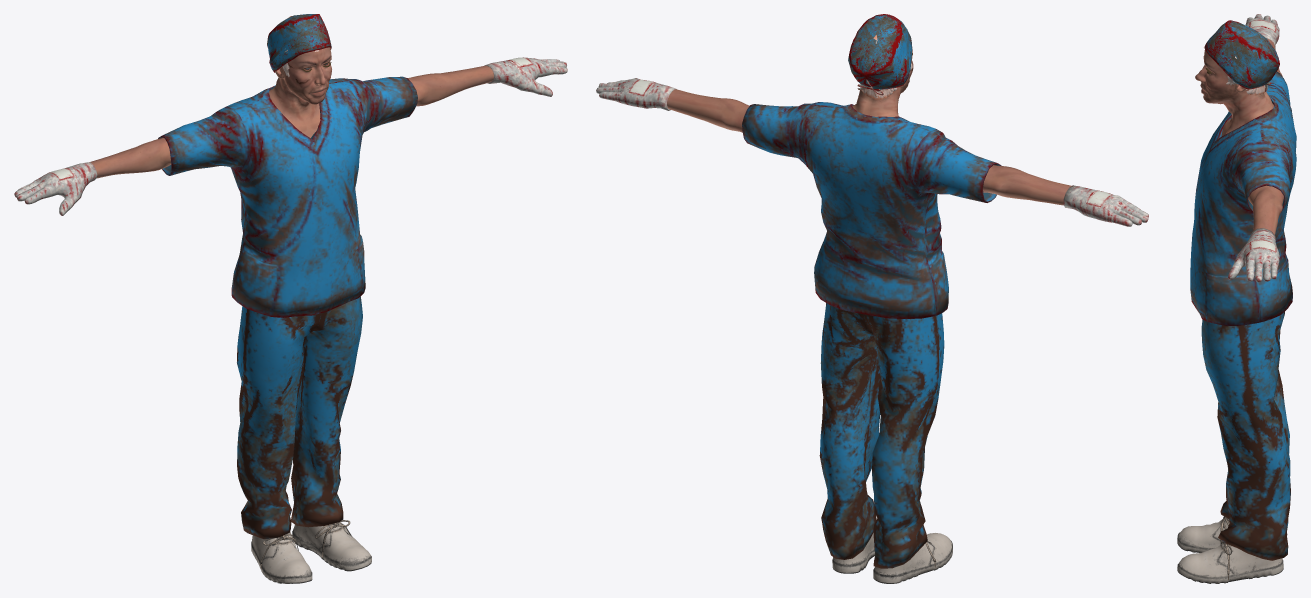
The model's file is real old man object.obj.
The picture shows the model from 3 angles, left to right: view 1: azimuth 30°, elevation 25°; view 2: azimuth 150°, elevation 25°; view 3: azimuth 270°, elevation 25°; orthographic projection.
Parts seen in each view (by area): view 1: Tops, Bottoms, Body, Shoes, Gloves, Hats; view 2: Tops, Bottoms, Body, Hats, Gloves, Shoes; view 3: Tops, Bottoms, Shoes, Body, Hats, Gloves, Hair.
Part boxes in pixels (bbox=[...]): Tops: bbox=[158, 76, 417, 317]; Bottoms: bbox=[237, 296, 362, 539]; Body: bbox=[89, 47, 494, 178]; Shoes: bbox=[251, 520, 371, 583]; Gloves: bbox=[14, 57, 567, 215]; Hats: bbox=[267, 14, 331, 72]; Tops: bbox=[742, 102, 1001, 319]; Bottoms: bbox=[819, 303, 944, 568]; Body: bbox=[667, 46, 1071, 205]; Hats: bbox=[848, 14, 912, 95]; Gloves: bbox=[596, 78, 1148, 226]; Shoes: bbox=[832, 518, 952, 583]; Tops: bbox=[1190, 71, 1296, 325]; Bottoms: bbox=[1201, 311, 1290, 560]; Shoes: bbox=[1177, 516, 1283, 583]; Body: bbox=[1195, 38, 1283, 234]; Hats: bbox=[1204, 20, 1279, 91]; Gloves: bbox=[1228, 14, 1279, 282]; Hair: bbox=[1203, 32, 1265, 95].
Bounding box in the file's own units: 192 × 182 × 36.68.
1 material, 1 textured.
